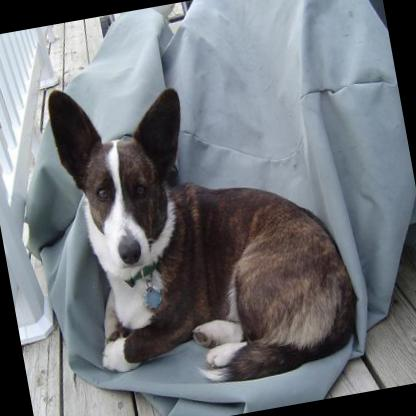Cardigan: (44, 44, 366, 406)
